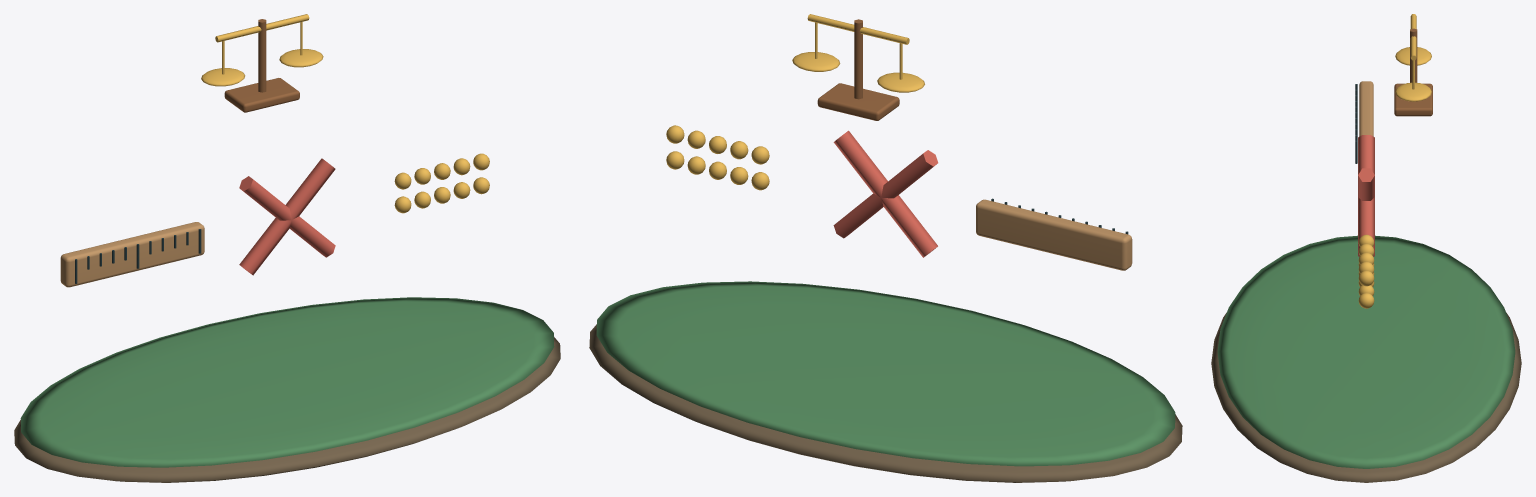
File: complete-third-few-differences.glb
3 views of the same model, side by side, from view 1: azimuth 30°, elevation 25°; view 2: azimuth 150°, elevation 25°; view 3: azimuth 270°, elevation 25° (orthographic). The views are drawn at different scales.
Visible parts, largest first — view 1: complete-third-few-differences_surface_01, complete-third-few-differences_surface_00, complete-third-few-differences_surface_02, complete-third-few-differences_surface_05, complete-third-few-differences_surface_04, complete-third-few-differences_surface_06, complete-third-few-differences_surface_03; view 2: complete-third-few-differences_surface_01, complete-third-few-differences_surface_00, complete-third-few-differences_surface_02, complete-third-few-differences_surface_05, complete-third-few-differences_surface_04, complete-third-few-differences_surface_06; view 3: complete-third-few-differences_surface_01, complete-third-few-differences_surface_00, complete-third-few-differences_surface_05, complete-third-few-differences_surface_04, complete-third-few-differences_surface_06, complete-third-few-differences_surface_02.
Boxes of the visible parts, bbox=[...] form: complete-third-few-differences_surface_01: bbox=[20, 297, 554, 467]; complete-third-few-differences_surface_00: bbox=[14, 337, 560, 482]; complete-third-few-differences_surface_02: bbox=[60, 222, 204, 287]; complete-third-few-differences_surface_05: bbox=[201, 14, 489, 213]; complete-third-few-differences_surface_04: bbox=[239, 158, 335, 275]; complete-third-few-differences_surface_06: bbox=[224, 19, 299, 112]; complete-third-few-differences_surface_03: bbox=[75, 229, 201, 283]; complete-third-few-differences_surface_01: bbox=[596, 281, 1175, 466]; complete-third-few-differences_surface_00: bbox=[589, 324, 1182, 482]; complete-third-few-differences_surface_02: bbox=[976, 199, 1132, 270]; complete-third-few-differences_surface_05: bbox=[666, 14, 924, 190]; complete-third-few-differences_surface_04: bbox=[833, 130, 938, 257]; complete-third-few-differences_surface_06: bbox=[817, 19, 899, 120]; complete-third-few-differences_surface_01: bbox=[1217, 235, 1515, 468]; complete-third-few-differences_surface_00: bbox=[1211, 312, 1521, 482]; complete-third-few-differences_surface_05: bbox=[1358, 14, 1431, 308]; complete-third-few-differences_surface_04: bbox=[1358, 135, 1374, 256]; complete-third-few-differences_surface_06: bbox=[1394, 28, 1432, 116]; complete-third-few-differences_surface_02: bbox=[1359, 81, 1373, 136].
Bounding box in the file's own units: 4.56 × 3.09 × 2.5.
